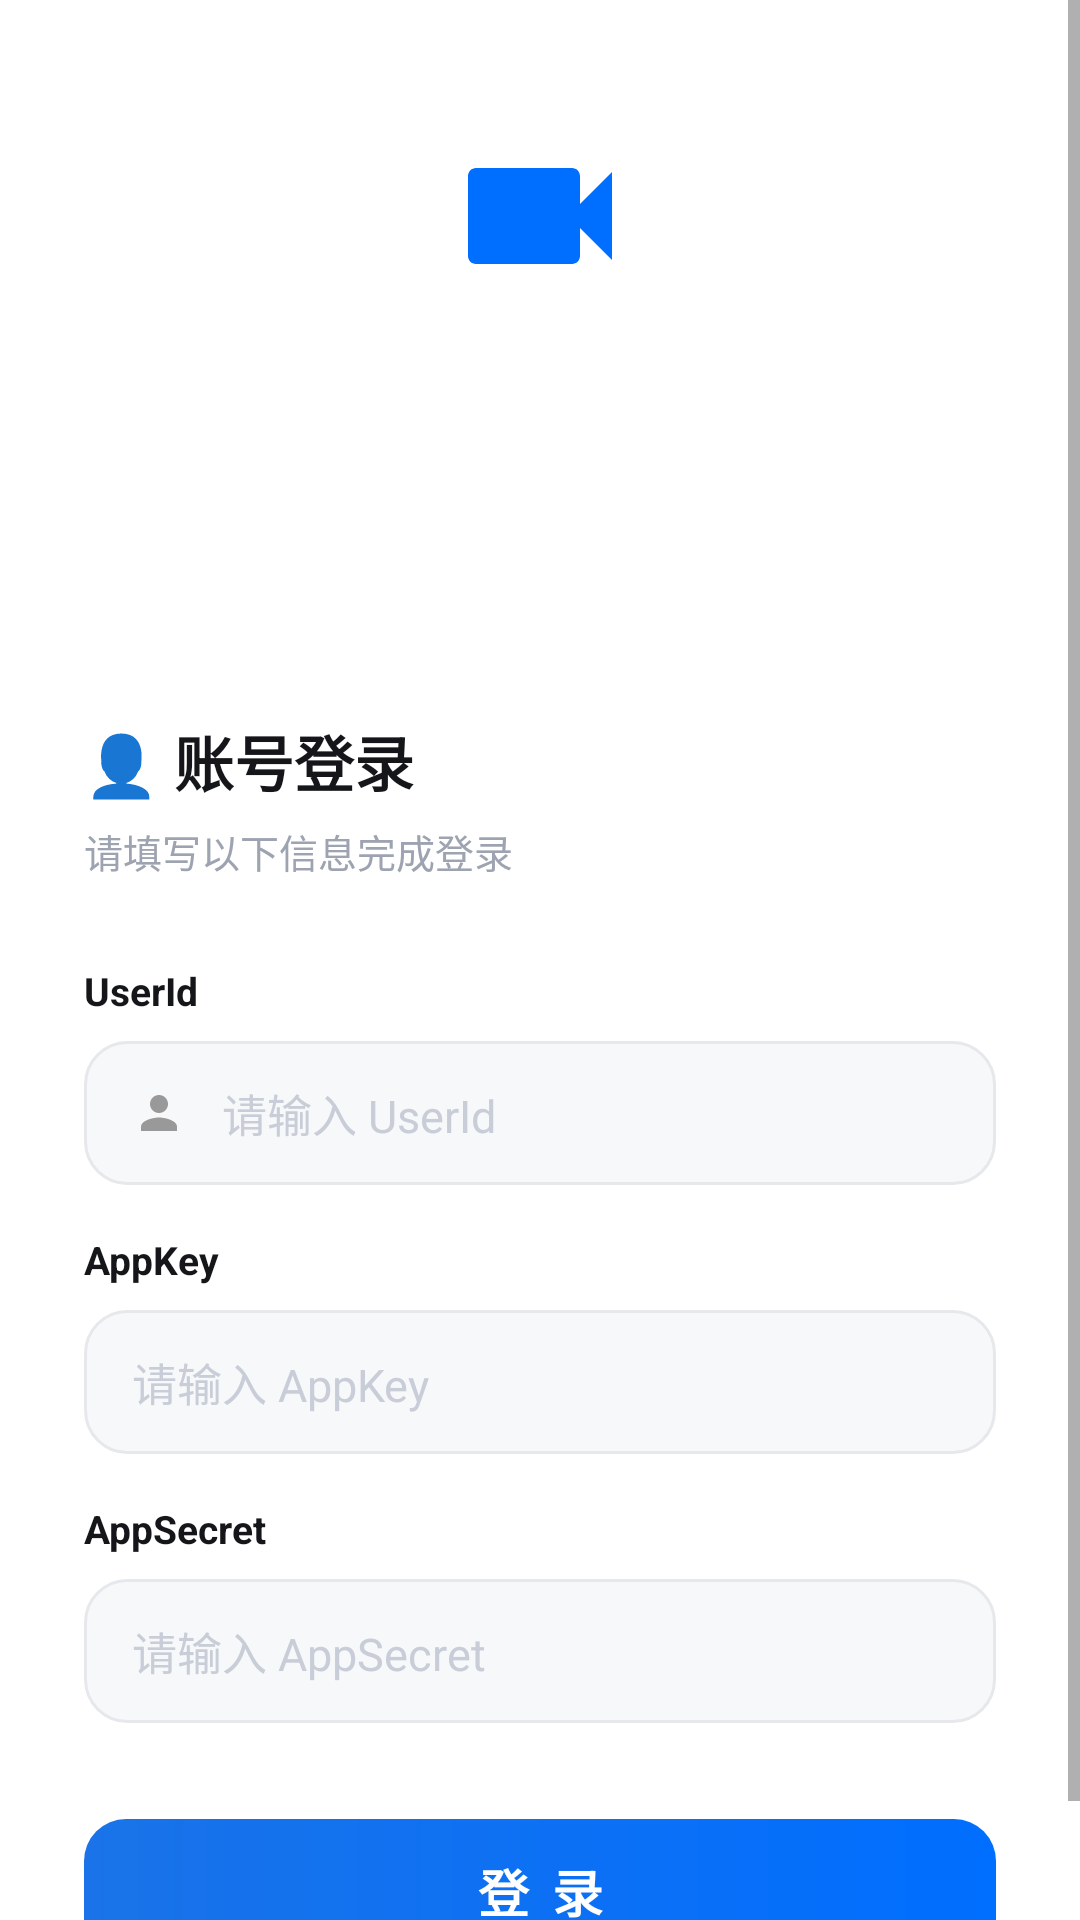

Locate icon controls on the screen. Image size 1080 x 1920, boxes as (x1, y1, x2, y2).
iot user: (141, 1095, 177, 1131)
iot video camera: (468, 168, 612, 264)
